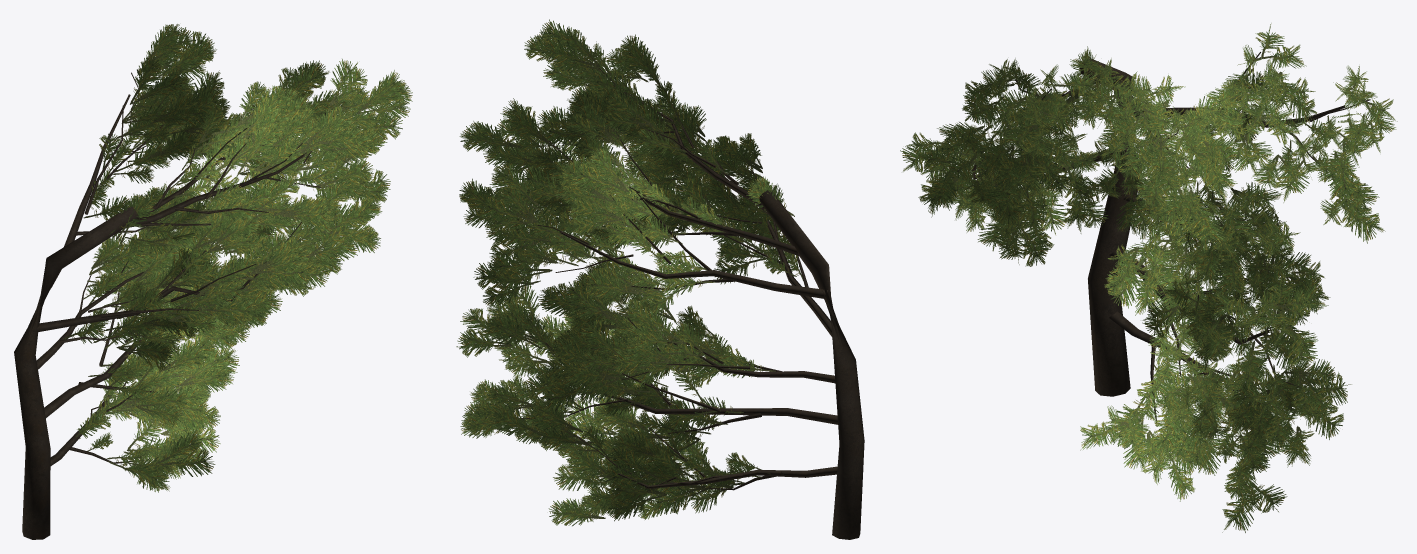
File: krummholz_pine_v03_LOD1.fbx
The picture shows the model from 3 angles, left to right: view 1: azimuth 30°, elevation 25°; view 2: azimuth 150°, elevation 25°; view 3: azimuth 270°, elevation 25°; orthographic projection. The views are drawn at different scales.
Parts seen in each view (by area): view 1: krummholz_pine_v03_LOD1; view 2: krummholz_pine_v03_LOD1; view 3: krummholz_pine_v03_LOD1.
Part boxes in pixels (x1=…): krummholz_pine_v03_LOD1: x1=14, y1=24, x2=412, y2=539; krummholz_pine_v03_LOD1: x1=456, y1=19, x2=864, y2=539; krummholz_pine_v03_LOD1: x1=900, y1=23, x2=1397, y2=532.
Size of the model in its own units: 346 by 344 by 389.
2 materials, 2 textured.
